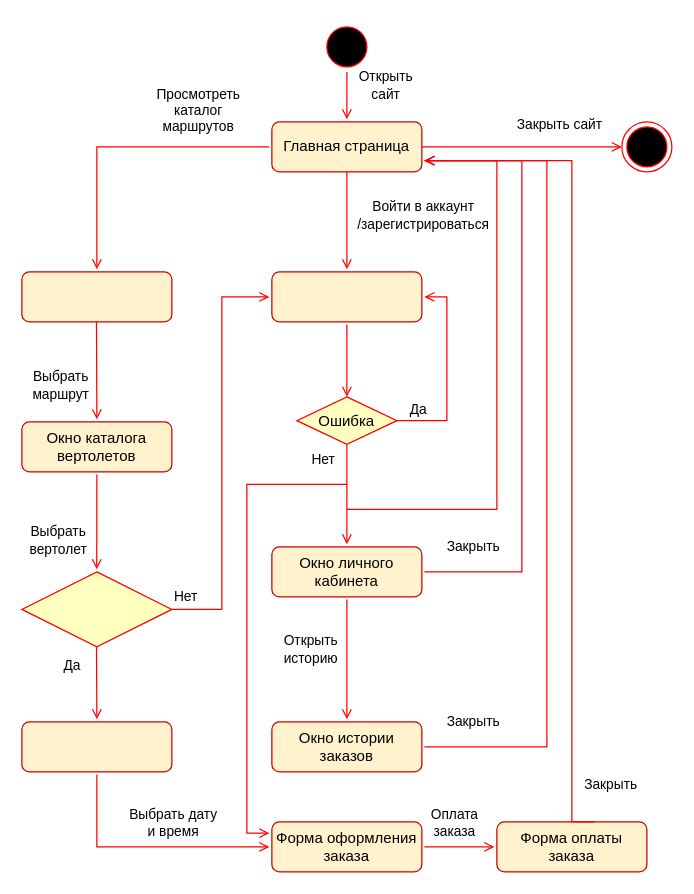
This 694x894 diagram has some shape labels left out. Here are the shapes that lost their labels. From the top down, the centre of each, then its label:
(96,296): Окно каталога маршрутов
(346,296): Окно авторизации
(96,609): Пользователь авторизован
(96,746): Форма выбора даты и времени
